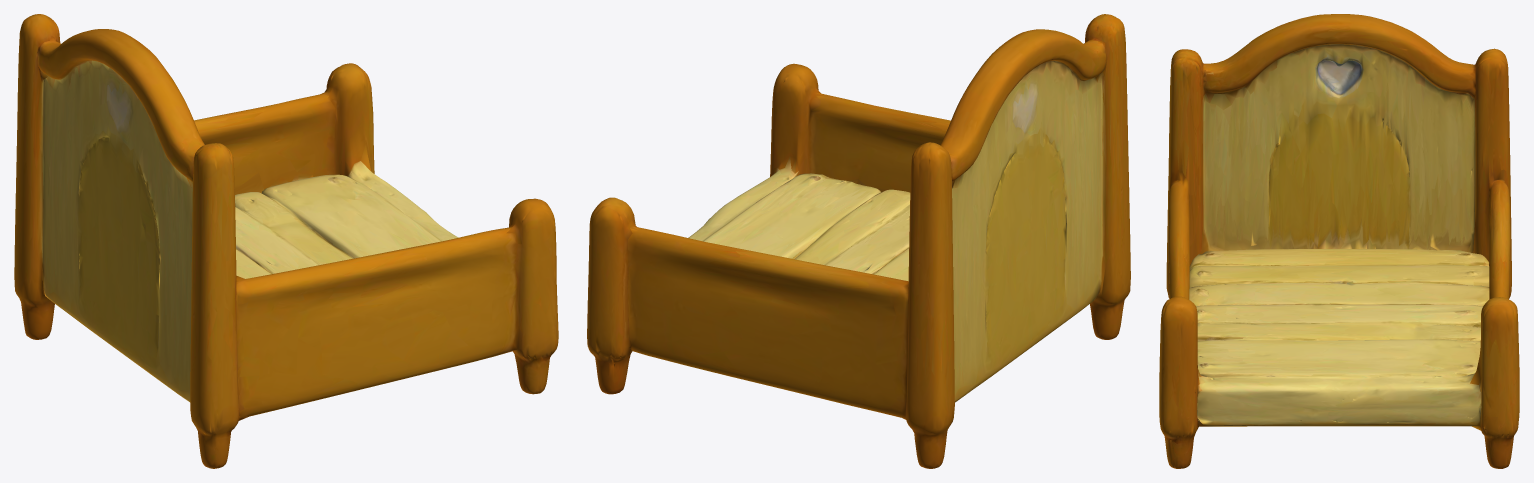
File: room-bed-frame.glb
The picture shows the model from 3 angles, left to right: view 1: azimuth 30°, elevation 25°; view 2: azimuth 150°, elevation 25°; view 3: azimuth 270°, elevation 25°; orthographic projection. The views are drawn at different scales.
Visible parts, largest first — view 1: tripo_node_9ba9ec11-9ef7-4fe4-b100-3a1b8d664fa7; view 2: tripo_node_9ba9ec11-9ef7-4fe4-b100-3a1b8d664fa7; view 3: tripo_node_9ba9ec11-9ef7-4fe4-b100-3a1b8d664fa7.
Part boxes in pixels (bbox=[...]): tripo_node_9ba9ec11-9ef7-4fe4-b100-3a1b8d664fa7: bbox=[14, 14, 558, 468]; tripo_node_9ba9ec11-9ef7-4fe4-b100-3a1b8d664fa7: bbox=[587, 14, 1130, 468]; tripo_node_9ba9ec11-9ef7-4fe4-b100-3a1b8d664fa7: bbox=[1159, 14, 1519, 468].
Bounding box in the file's own units: 0.9707 × 0.9414 × 0.9776.
1 material, 1 textured.
